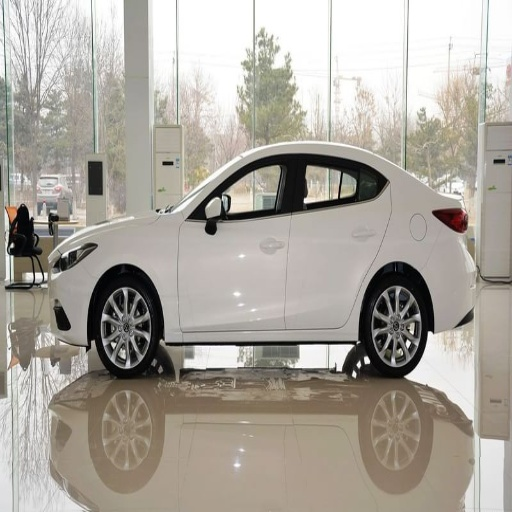_background_: (425, 255, 480, 327)
back_glass: (286, 152, 390, 326)
back_left_door: (434, 209, 469, 233)
back_right_light: (123, 456, 150, 508)
front_glass: (177, 153, 291, 330)
trunk: (361, 268, 430, 376), (91, 274, 158, 378), (380, 404, 412, 454)
